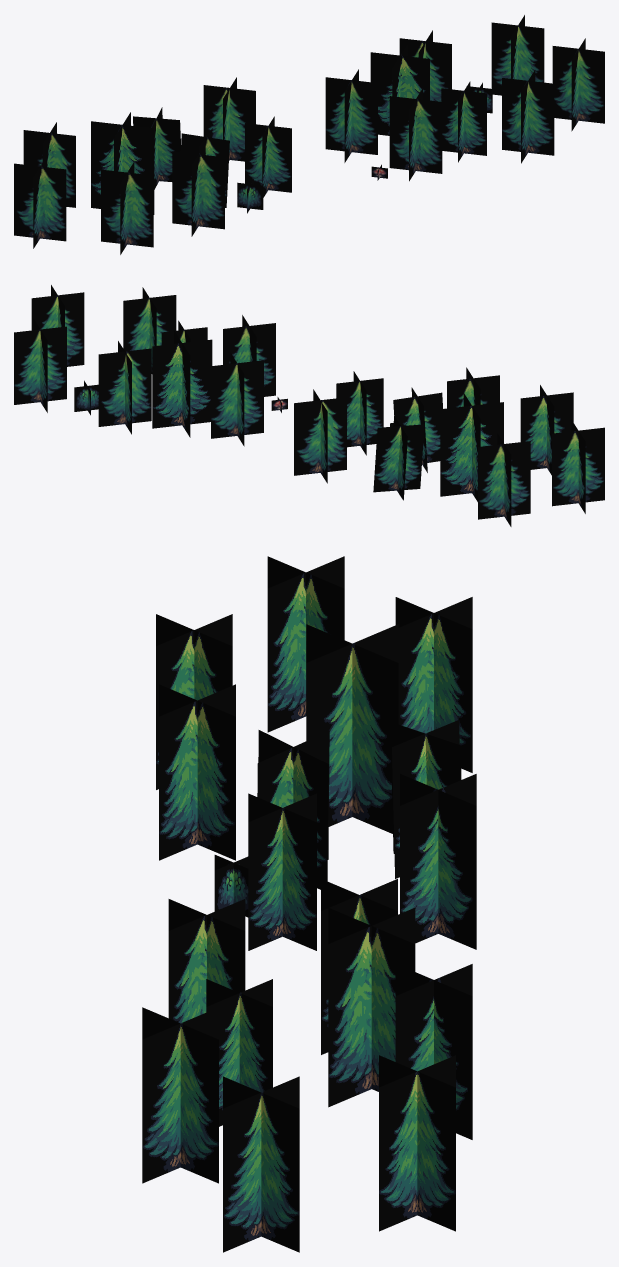
Rendered from Props3.glb.
3 views of the same model, one above another, from view 1: azimuth 30°, elevation 25°; view 2: azimuth 150°, elevation 25°; view 3: azimuth 270°, elevation 25° (orthographic). The views are drawn at different scales.
Visible parts, largest first — view 1: Props3; view 2: Props3; view 3: Props3.
Boxes of the visible parts, x1=… form: Props3: x1=14, y1=15, x2=604, y2=254; Props3: x1=14, y1=285, x2=604, y2=526; Props3: x1=142, y1=556, x2=476, y2=1252.
Size of the model in its own units: 7.24 by 1.07 by 1.87.
Materials: 1 (1 with a texture image).
